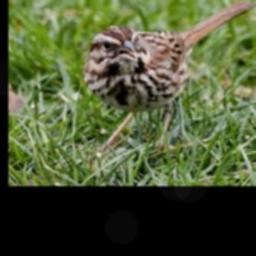Sparrow: (81, 0, 256, 141)
